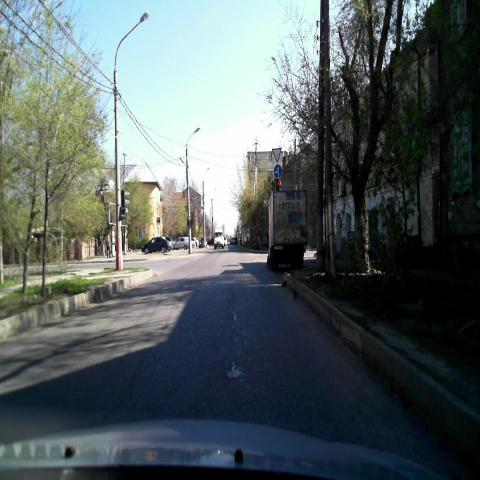4_1_5: (274, 164, 283, 179)
